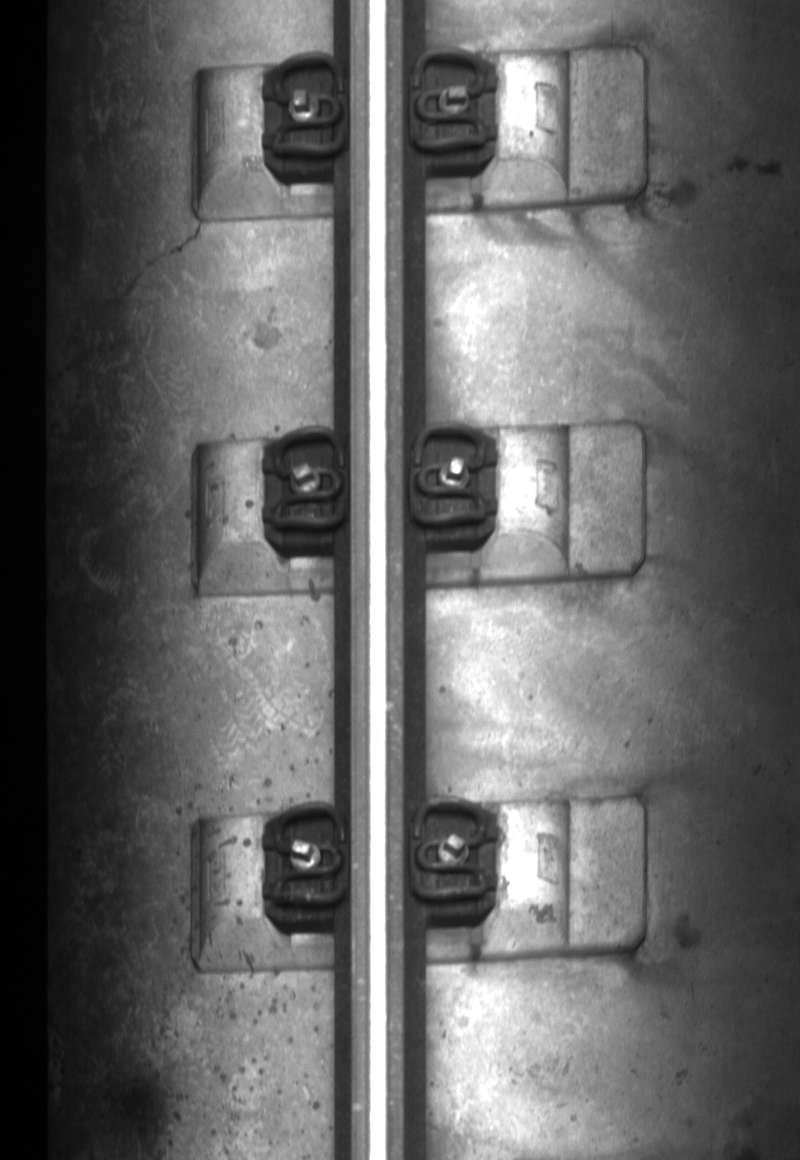l_faster: (265, 799, 351, 910), (265, 50, 350, 162), (266, 421, 348, 536)
r_faster: (407, 792, 493, 908), (406, 43, 491, 158), (407, 417, 492, 532)
